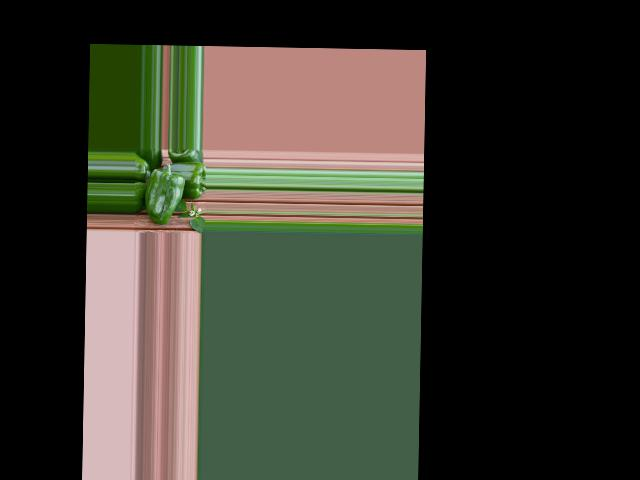bell_pepper: (133, 151, 152, 177)
